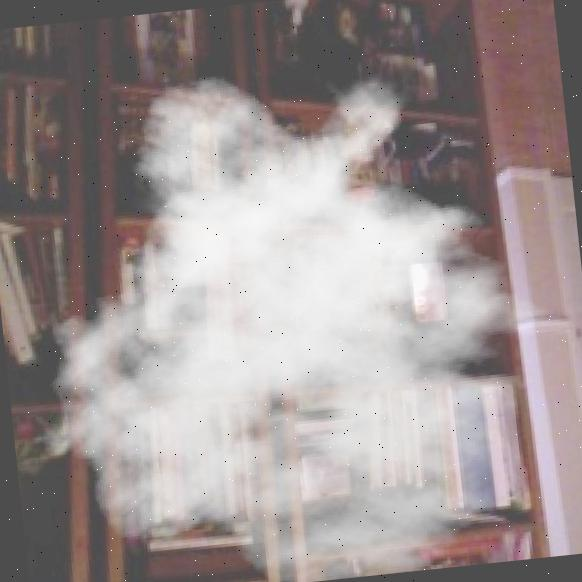smoke: (0, 39, 582, 582)
